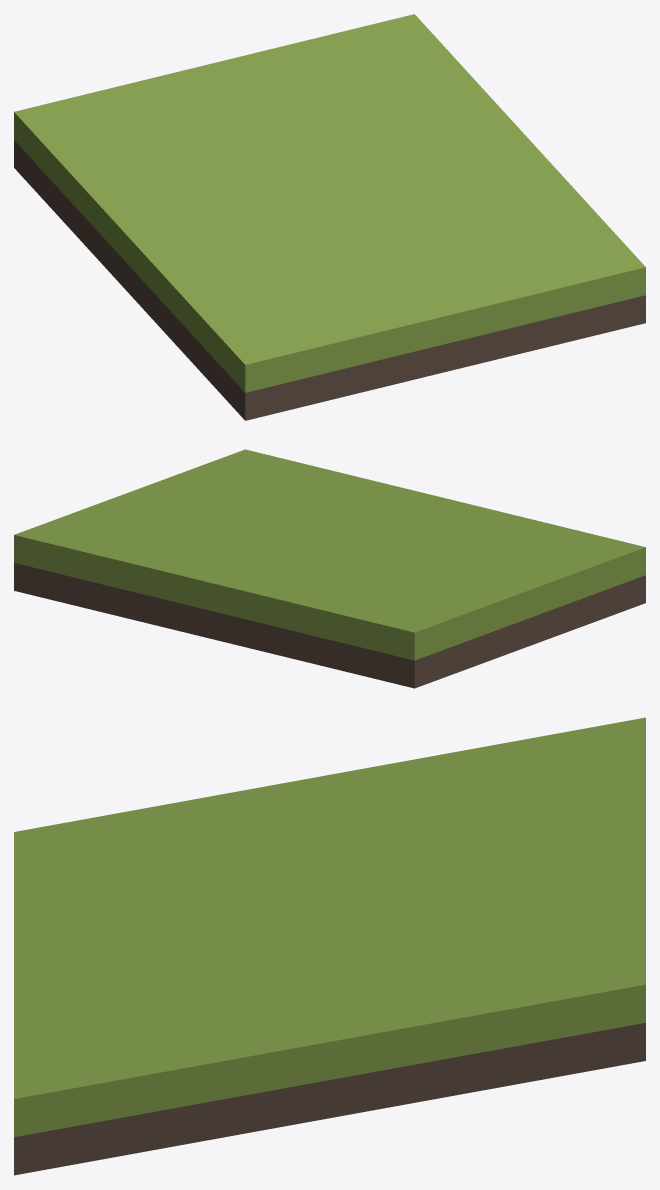
File: grass-tile-hill_01.fbx
The picture shows the model from 3 angles, top to bottom: view 1: azimuth 30°, elevation 25°; view 2: azimuth 150°, elevation 25°; view 3: azimuth 270°, elevation 25°; orthographic projection. The views are drawn at different scales.
Parts seen in each view (by area): view 1: grass-tile-hill_01; view 2: grass-tile-hill_01; view 3: grass-tile-hill_01.
Part boxes in pixels (x1=…): grass-tile-hill_01: x1=14, y1=14, x2=645, y2=420; grass-tile-hill_01: x1=14, y1=449, x2=645, y2=688; grass-tile-hill_01: x1=14, y1=717, x2=645, y2=1175.
Size of the model in its own units: 3000 by 1000 by 3000.
